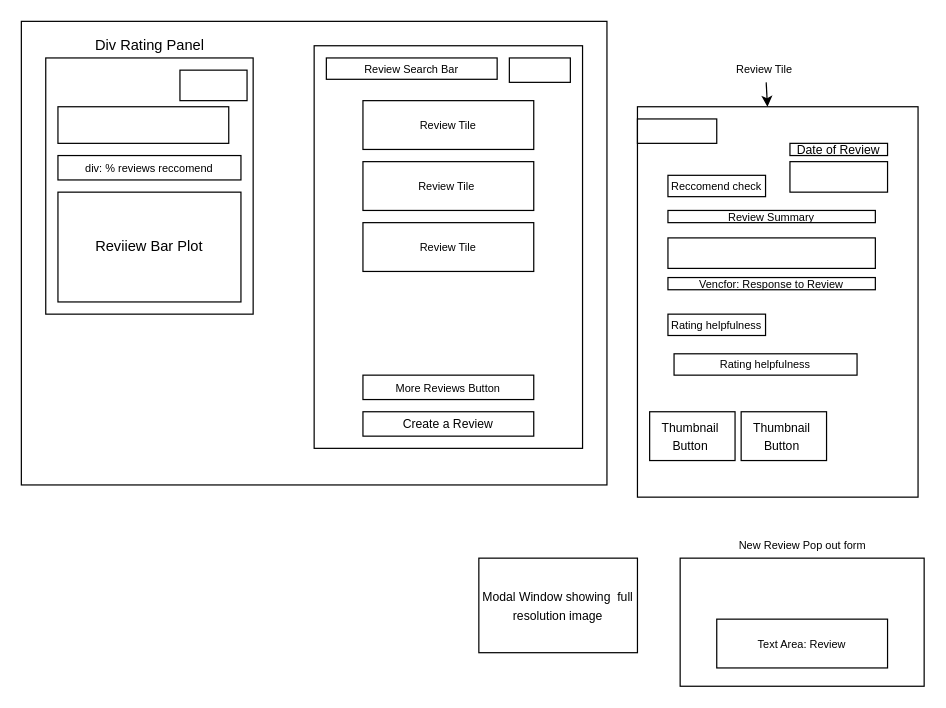
Some shapes in this 946 by 708 pixel diagram are drawn without their labels. Here are the shapes that lost their labels. From the top down, the centre of each, then its label:
[213,85]: Star Img
[539,69]: Search Btn
[143,124]: H3 or H4 : calulate star Ave
[676,130]: Star Rating
[838,176]: Username verified purchse
[771,252]: Review Body
